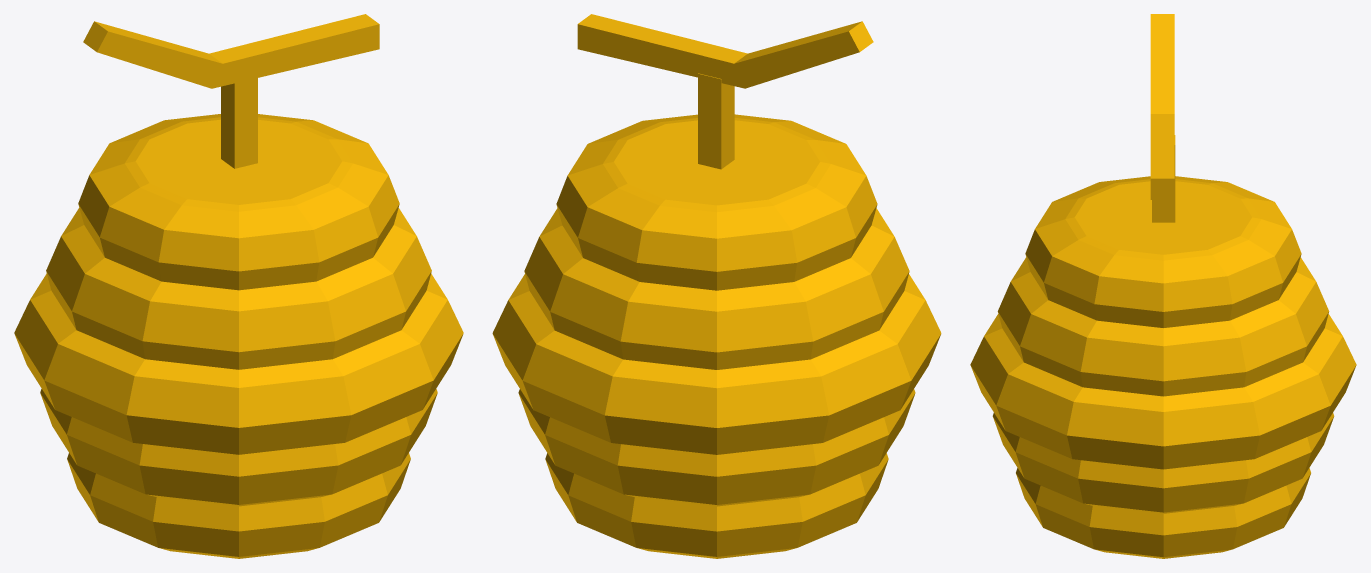
The model's file is fall island HIVE.fbx.
The picture shows the model from 3 angles, left to right: view 1: azimuth 30°, elevation 25°; view 2: azimuth 150°, elevation 25°; view 3: azimuth 270°, elevation 25°; orthographic projection. The views are drawn at different scales.
Parts seen in each view (by area): view 1: hive; view 2: hive; view 3: hive.
Boxes of the visible parts, left/top/right/bottom form: hive: left=14, top=14, right=463, bottom=558; hive: left=492, top=14, right=941, bottom=558; hive: left=970, top=14, right=1356, bottom=558.
Size of the model in its own units: 535 by 671 by 535.
